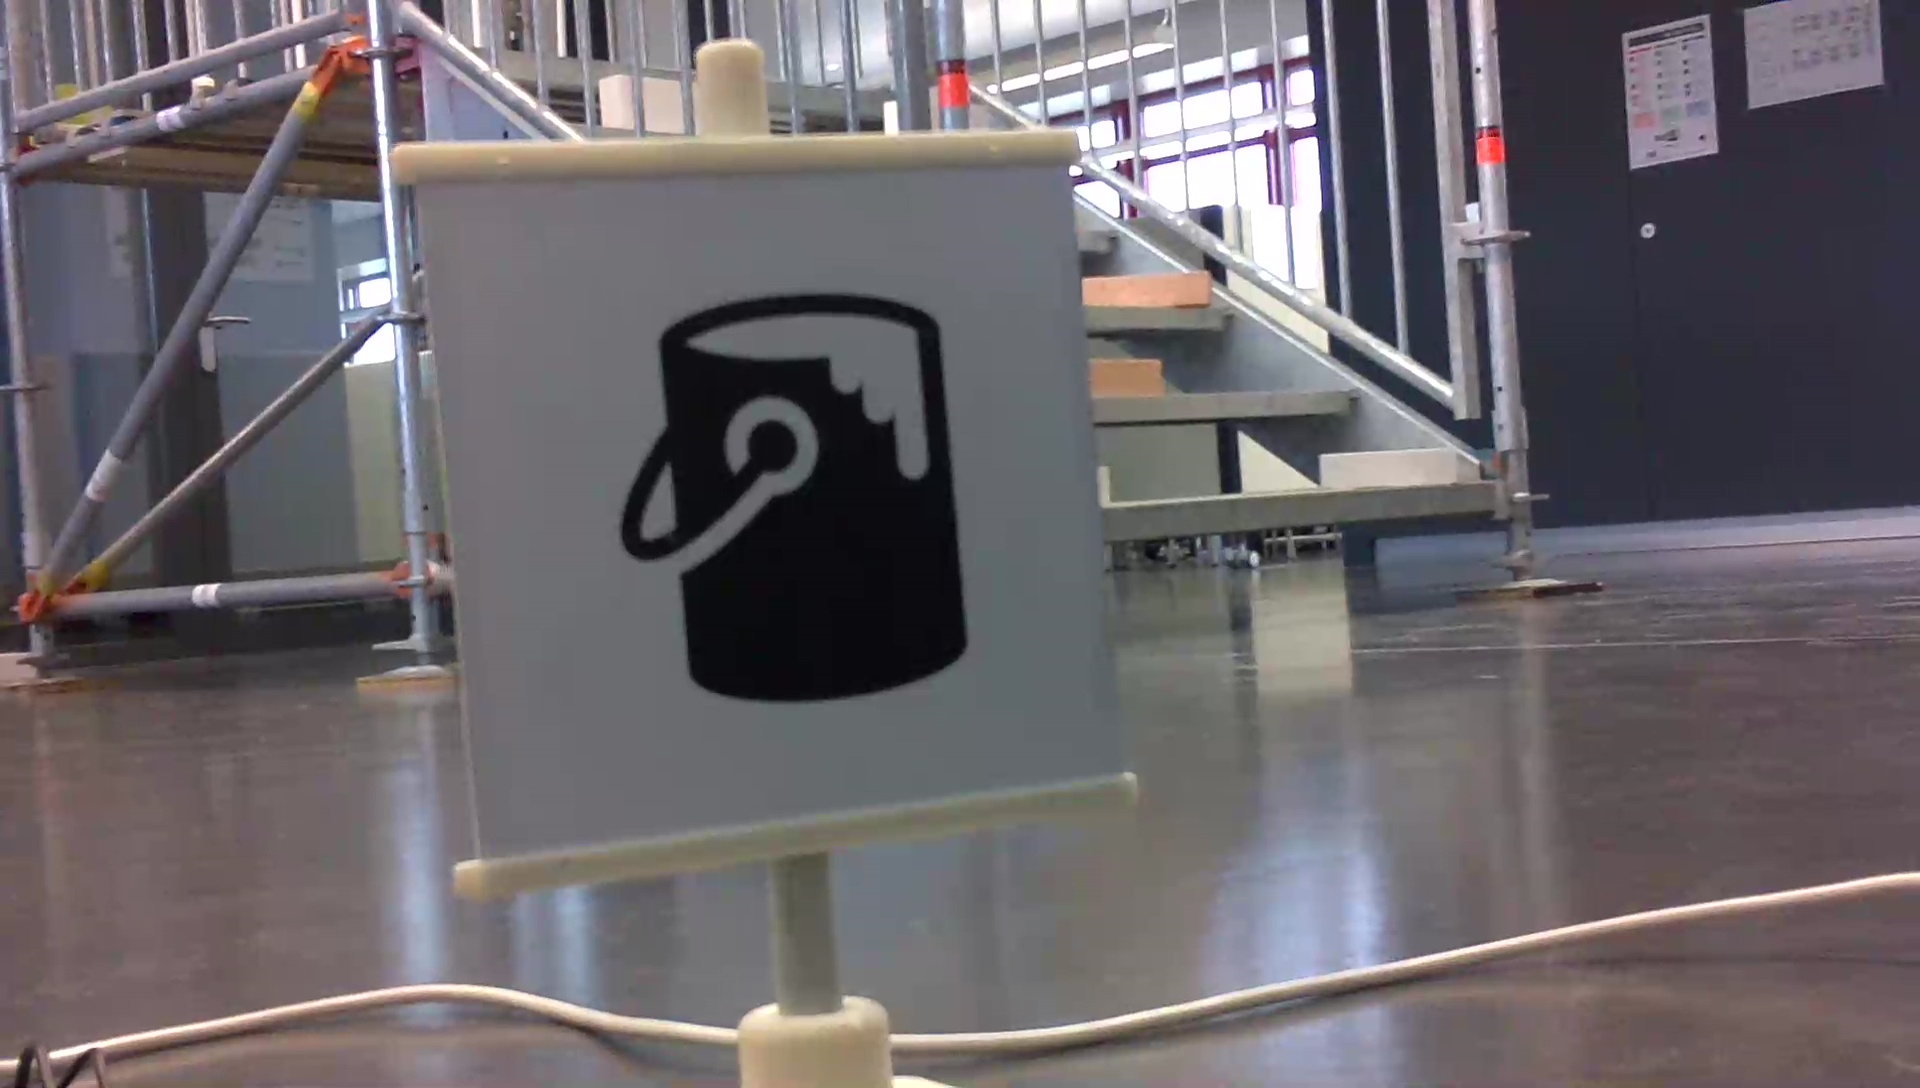brick: (1320, 446, 1456, 483), (1087, 270, 1208, 306), (1088, 355, 1158, 394)
bucket: (603, 284, 982, 715)
edge: (1102, 483, 1490, 541), (1092, 388, 1365, 422), (1083, 301, 1237, 332)
